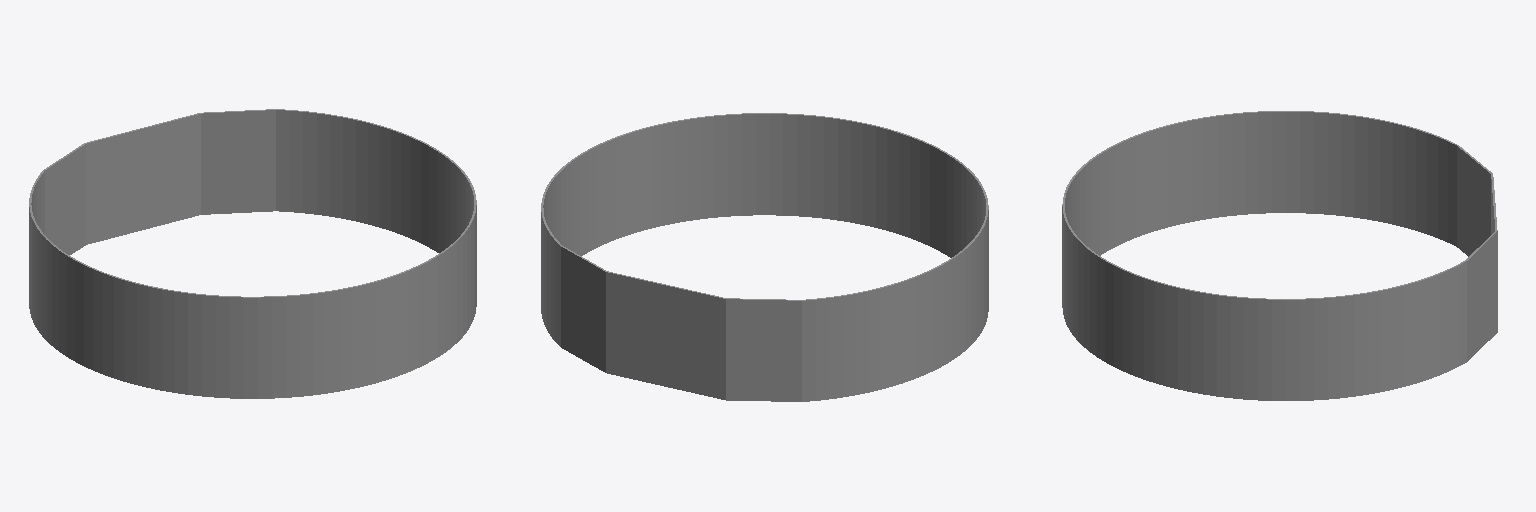
File: gate19.obj
3 views of the same model, side by side, from view 1: azimuth 30°, elevation 25°; view 2: azimuth 150°, elevation 25°; view 3: azimuth 270°, elevation 25° (orthographic).
Parts seen in each view (by area): view 1: Cylinder; view 2: Cylinder; view 3: Cylinder.
Boxes of the visible parts, x1=… form: Cylinder: x1=29, y1=109, x2=476, y2=398; Cylinder: x1=541, y1=113, x2=988, y2=401; Cylinder: x1=1062, y1=111, x2=1497, y2=400.
Bounding box in the file's own units: 4 × 1 × 3.89.